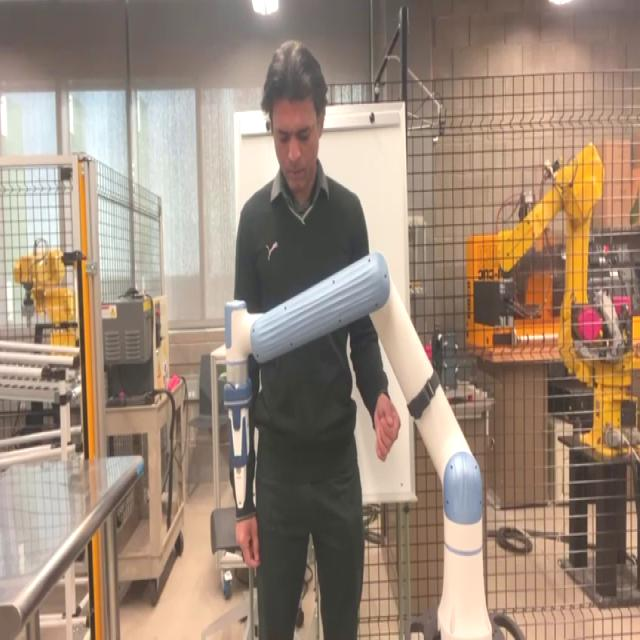robot: (218, 237, 500, 640)
